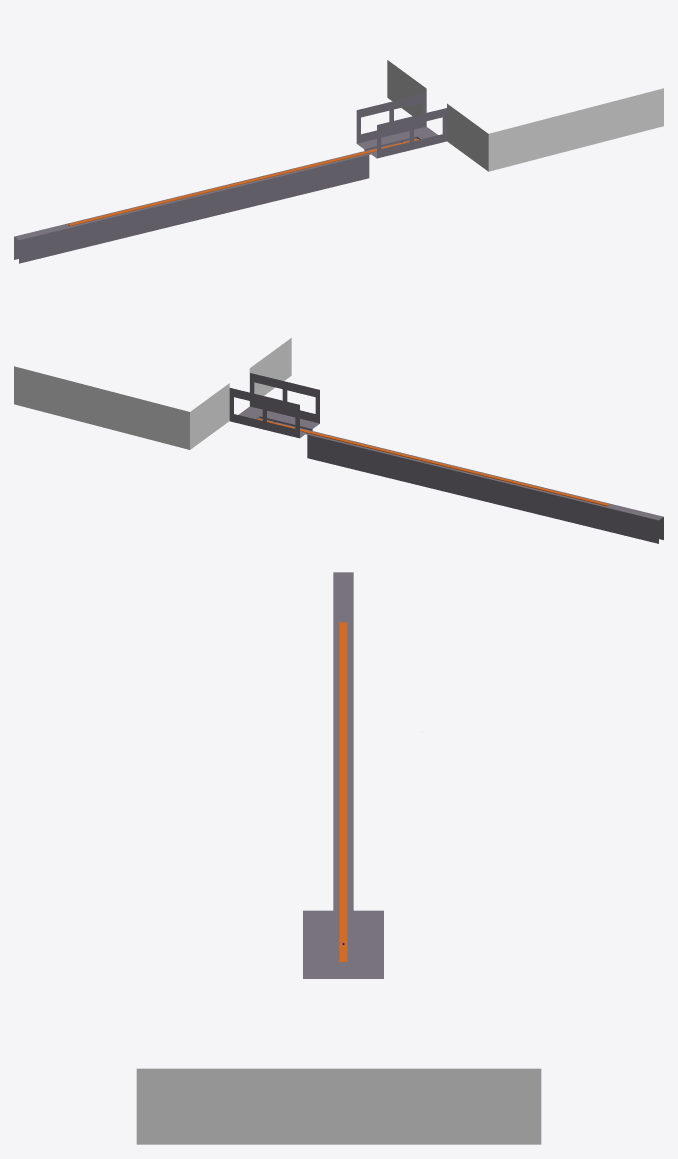
The model's file is Trainstation.glb.
3 renders of one model, top to bottom at view 1: azimuth 30°, elevation 25°; view 2: azimuth 150°, elevation 25°; view 3: azimuth 270°, elevation 25°, orthographic. The views are drawn at different scales.
Visible parts, largest first — view 1: Train Station, Tower, Train Tracks; view 2: Train Station, Tower, Train Tracks; view 3: Tower, Train Station, Train Tracks.
Part boxes in pixels (x1,y1,x2,y2): Train Station: (14,93,446,263); Tower: (387,60,663,171); Train Tracks: (68,139,419,226); Train Station: (229,373,663,543); Tower: (14,338,291,449); Train Tracks: (257,418,609,506); Tower: (136,1068,541,1144); Train Station: (303,572,383,978); Train Tracks: (339,622,347,961).
Bounding box in the file's own units: 1701 × 319 × 500.
